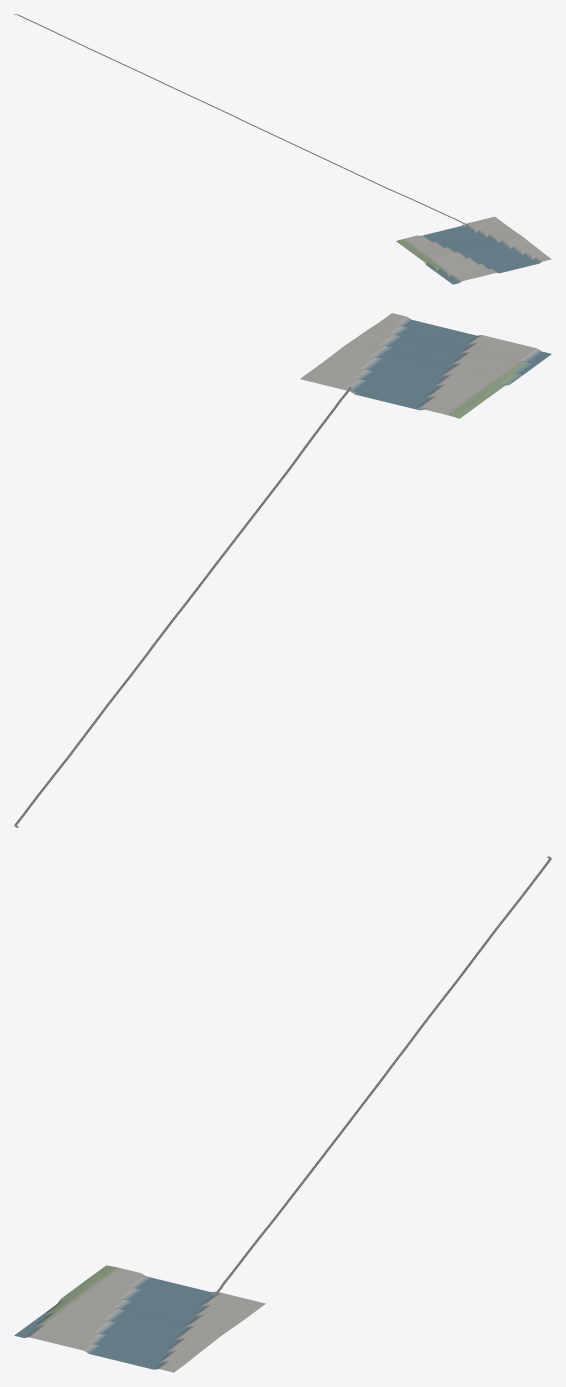
Rendered from tile_9_0.glb.
3 views of the same model, one above another, from view 1: azimuth 30°, elevation 25°; view 2: azimuth 150°, elevation 25°; view 3: azimuth 330°, elevation 25° (orthographic). The views are drawn at different scales.
Parts seen in each view (by area): view 1: terrain, roads; view 2: terrain, roads; view 3: terrain, roads.
Part boxes in pixels (x1=…): terrain: x1=396, y1=216, x2=551, y2=284; roads: x1=14, y1=14, x2=468, y2=225; terrain: x1=300, y1=313, x2=551, y2=418; roads: x1=14, y1=387, x2=351, y2=827; terrain: x1=14, y1=1265, x2=265, y2=1372; roads: x1=214, y1=856, x2=551, y2=1295.
Bounding box in the file's own units: 397 × 6.26 × 1725.
